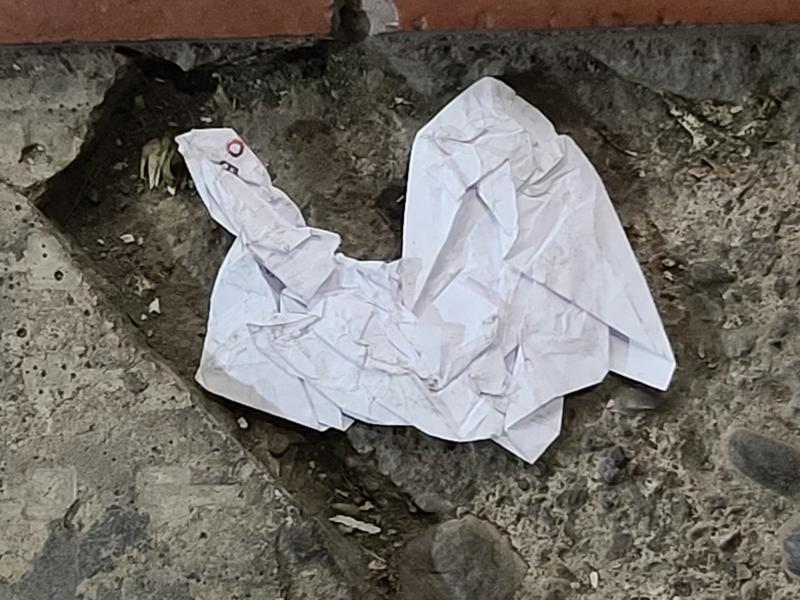papel: (174, 78, 677, 465)
